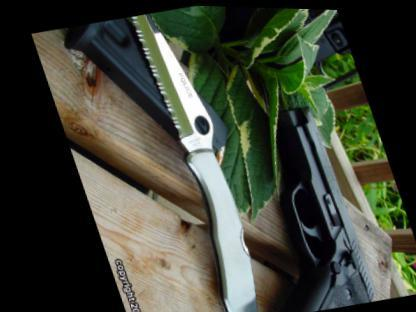knife: (125, 6, 220, 153)
